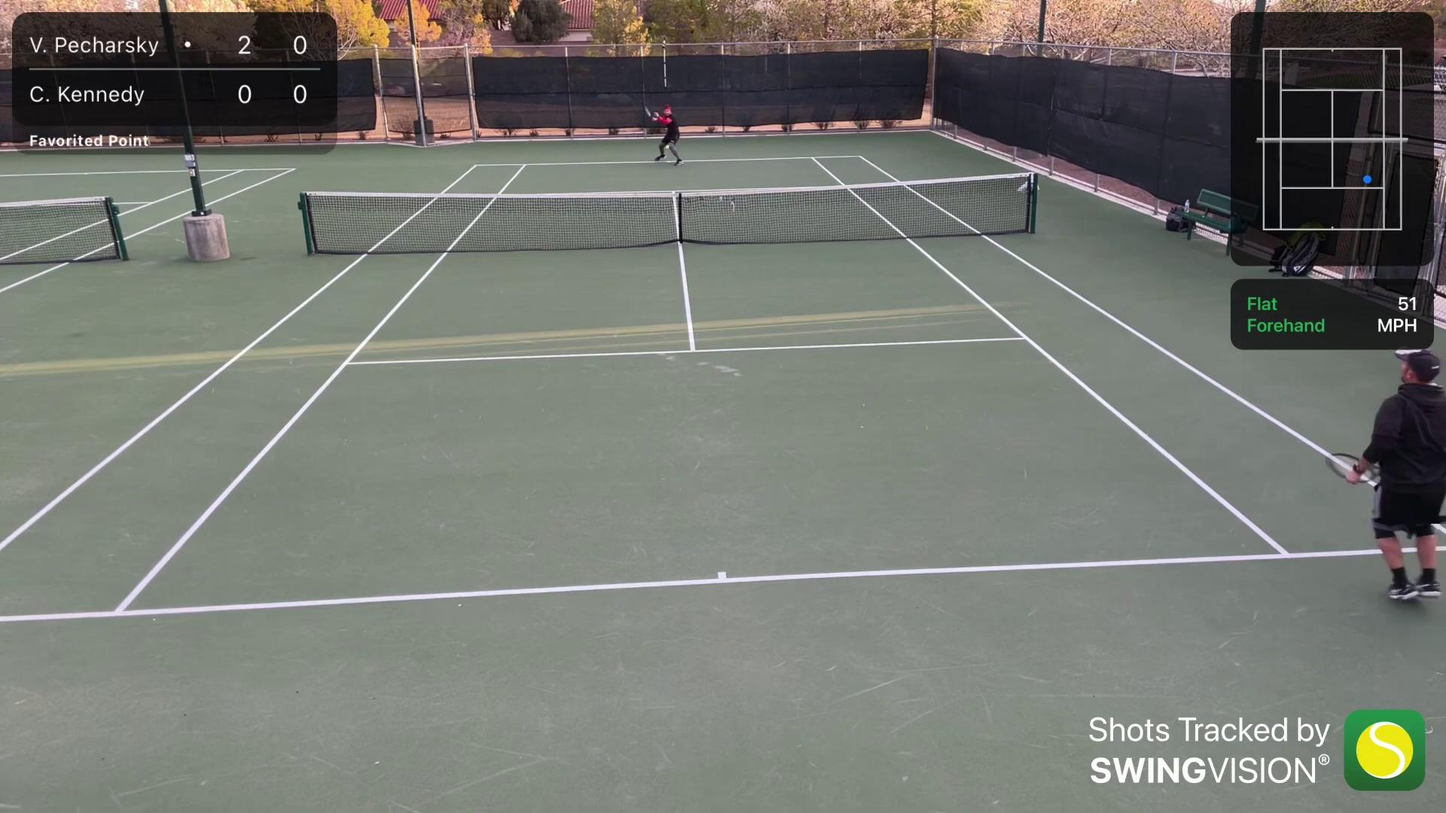ball: (665, 145, 670, 150), (340, 367, 343, 371)
